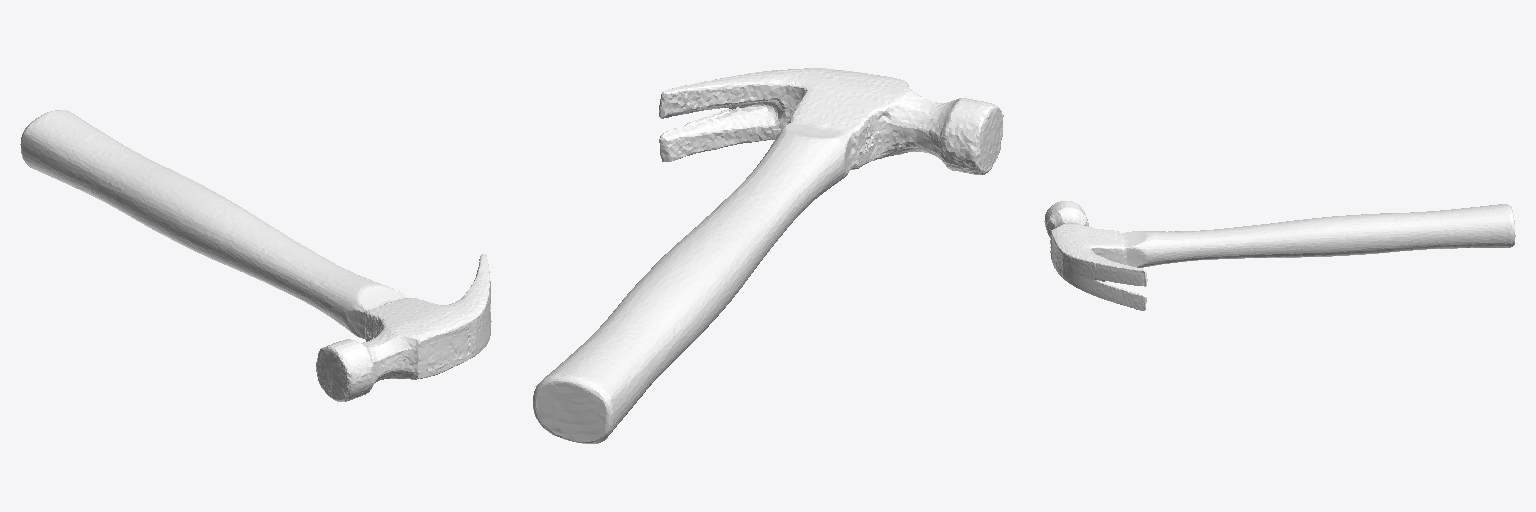
robot.urdf — hammer:
<robot name="hammer">
    <link name="base_link">
        <visual>
            <origin xyz="-0.0 0.0 -0.0" rpy="0.0 0.0 0.0" />
            <geometry>
                <mesh filename="hammer/textured.obj" scale="1 1 1" />
            </geometry>
            <material name="texture">
                <color rgba="1.0 1.0 1.0 1.0" />
            </material>
        </visual>
        <collision>
            <origin xyz="-0.0 0.0 -0.0" rpy="0.0 0.0 0.0" />
            <geometry>
                <mesh filename="hammer/textured_coacd_0.stl" scale="1 1 1" />
            </geometry>
        </collision>
        <collision>
            <origin xyz="-0.0 0.0 -0.0" rpy="0.0 0.0 0.0" />
            <geometry>
                <mesh filename="hammer/textured_coacd_1.stl" scale="1 1 1" />
            </geometry>
        </collision>
        <collision>
            <origin xyz="-0.0 0.0 -0.0" rpy="0.0 0.0 0.0" />
            <geometry>
                <mesh filename="hammer/textured_coacd_2.stl" scale="1 1 1" />
            </geometry>
        </collision>
        <collision>
            <origin xyz="-0.0 0.0 -0.0" rpy="0.0 0.0 0.0" />
            <geometry>
                <mesh filename="hammer/textured_coacd_3.stl" scale="1 1 1" />
            </geometry>
        </collision>
        <collision>
            <origin xyz="-0.0 0.0 -0.0" rpy="0.0 0.0 0.0" />
            <geometry>
                <mesh filename="hammer/textured_coacd_4.stl" scale="1 1 1" />
            </geometry>
        </collision>
        <inertial>
            <mass value="0.665" />
            <inertia ixx="1e-3" ixy="0.0" ixz="0.0" iyy="1e-3" iyz="0.0" izz="1e-3" />
        </inertial>
    </link>
</robot>

--- What the picture shows (computed from the rendered views, not written in the file) ---
3 views of the same robot in one strip: view 1: azimuth 30°, elevation 25°; view 2: azimuth 150°, elevation 25°; view 3: azimuth 270°, elevation 25° (orthographic).
Robot: hammer — 1 links, 0 joints (none); root link base_link; default pose: all joints at 0.
Visible links, largest first — view 1: base_link; view 2: base_link; view 3: base_link.
Boxes of the visible links, x1,y1,x2,y2 form: base_link: (20, 110, 491, 401); base_link: (533, 68, 1003, 443); base_link: (1044, 201, 1515, 310).
Size in the robot's own frame: 0.1264 by 0.3355 by 0.0323 metres.
1 mesh visuals loaded from 1 distinct referenced files (1 OBJ).